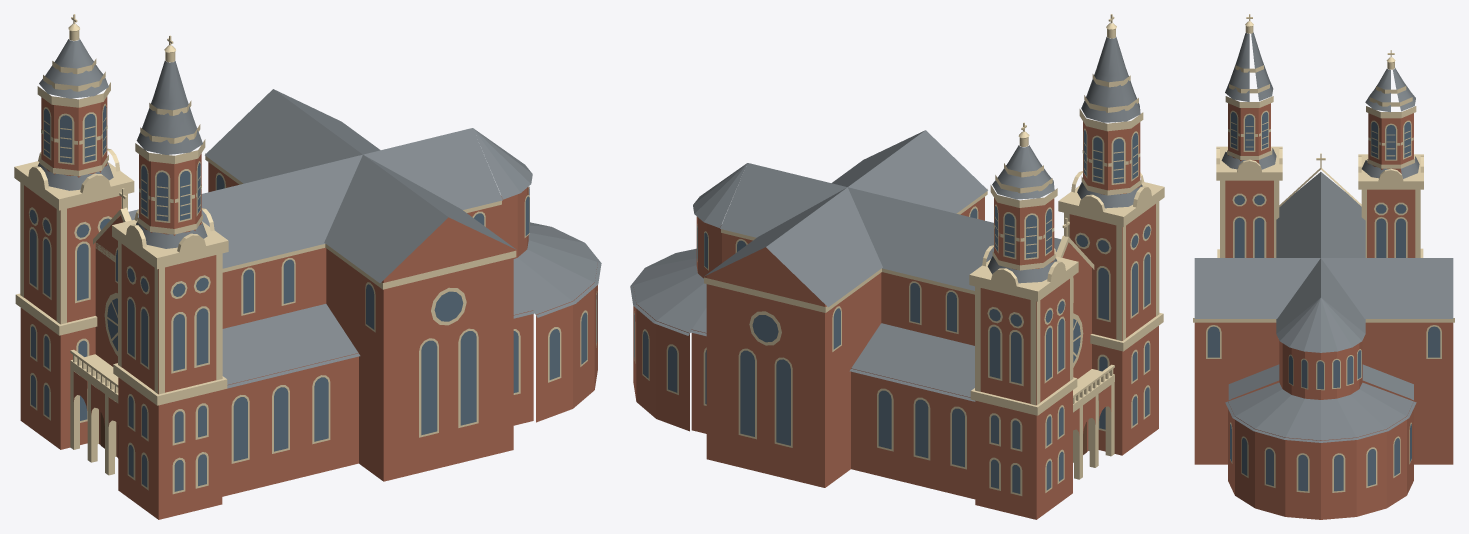
Rendered from det-old-st-marys.glb.
The picture shows the model from 3 angles, left to right: view 1: azimuth 30°, elevation 25°; view 2: azimuth 150°, elevation 25°; view 3: azimuth 270°, elevation 25°; orthographic projection. The views are drawn at different scales.
Parts seen in each view (by area): view 1: Old St. Mary's Church; view 2: Old St. Mary's Church; view 3: Old St. Mary's Church.
Part boxes in pixels (box(x1,y1,x2,y2)): Old St. Mary's Church: box(14, 14, 601, 519); Old St. Mary's Church: box(630, 14, 1164, 519); Old St. Mary's Church: box(1193, 14, 1454, 519).
Bounding box in the file's own units: 55.9 × 49.2 × 34.3.
